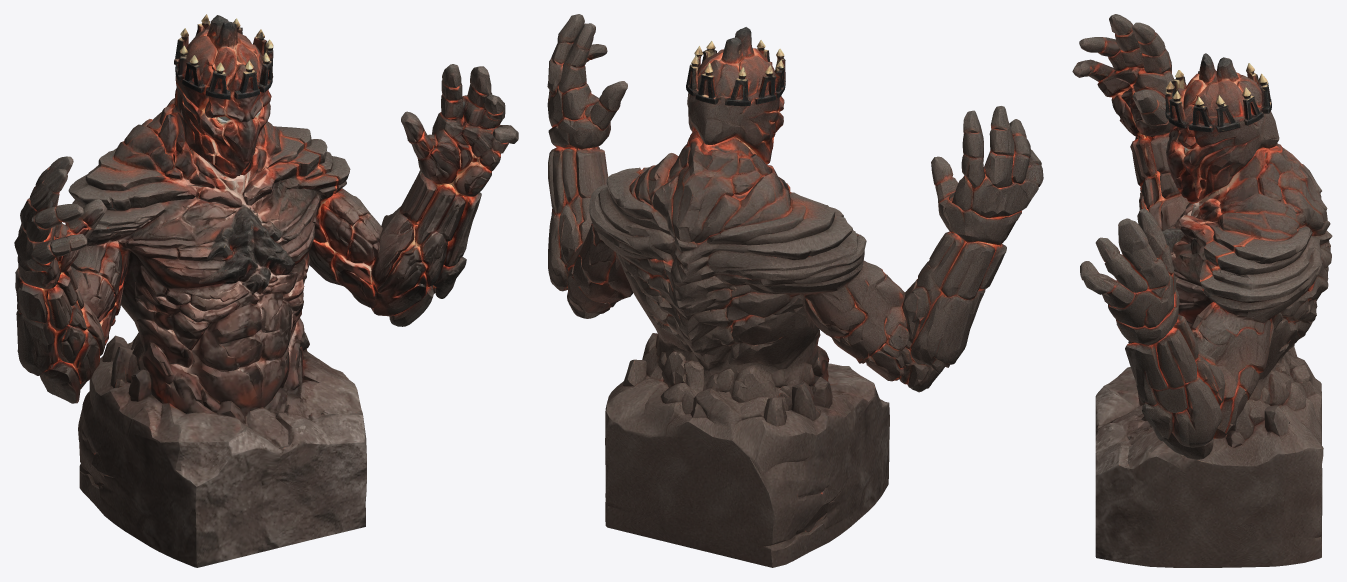
File: VAELTHORN-3DINPUT-v1.glb
3 views of the same model, side by side, from view 1: azimuth 30°, elevation 25°; view 2: azimuth 150°, elevation 25°; view 3: azimuth 270°, elevation 25° (orthographic). The views are drawn at different scales.
Parts seen in each view (by area): view 1: mesh_node; view 2: mesh_node; view 3: mesh_node.
Boxes of the visible parts, left/top/right/bottom form: mesh_node: left=14, top=14, right=518, bottom=567; mesh_node: left=547, top=14, right=1043, bottom=567; mesh_node: left=1072, top=14, right=1332, bottom=567.
Bounding box in the file's own units: 1.9 × 1.81 × 0.9177.
Materials: 1 (1 with a texture image).
